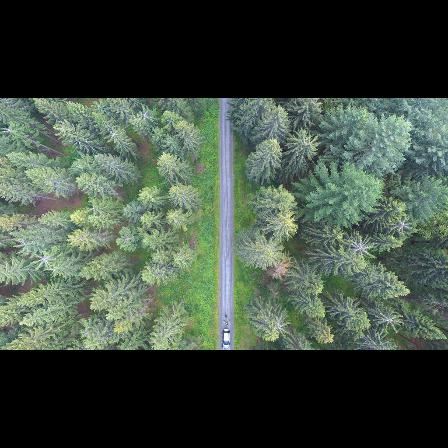Sick: (371, 304, 408, 332), (345, 234, 377, 259), (390, 212, 416, 239), (134, 104, 155, 126), (105, 122, 125, 144)
